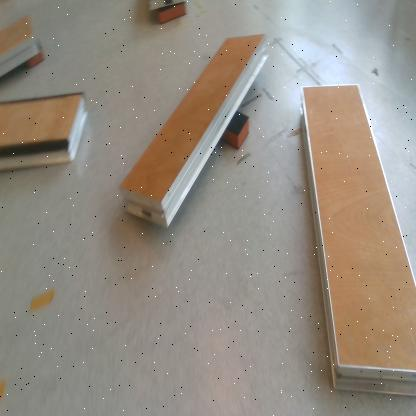Stairs: (301, 85, 416, 400), (119, 34, 269, 230), (1, 95, 90, 174), (1, 13, 38, 79)
